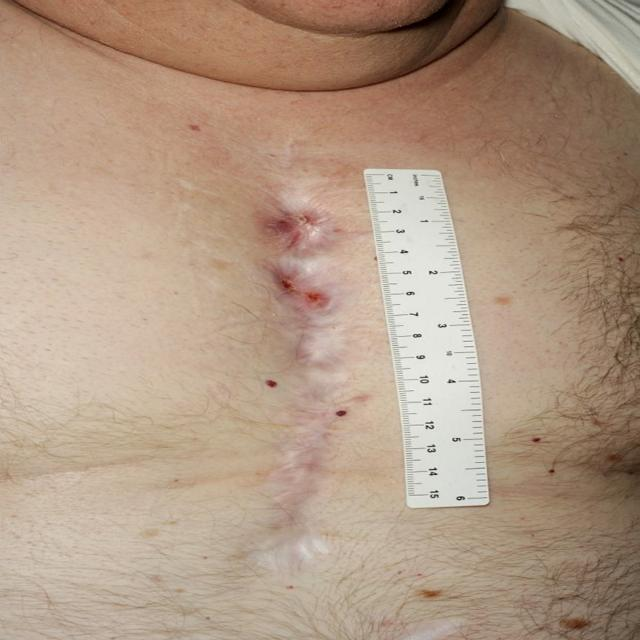wound: (243, 191, 374, 569)
